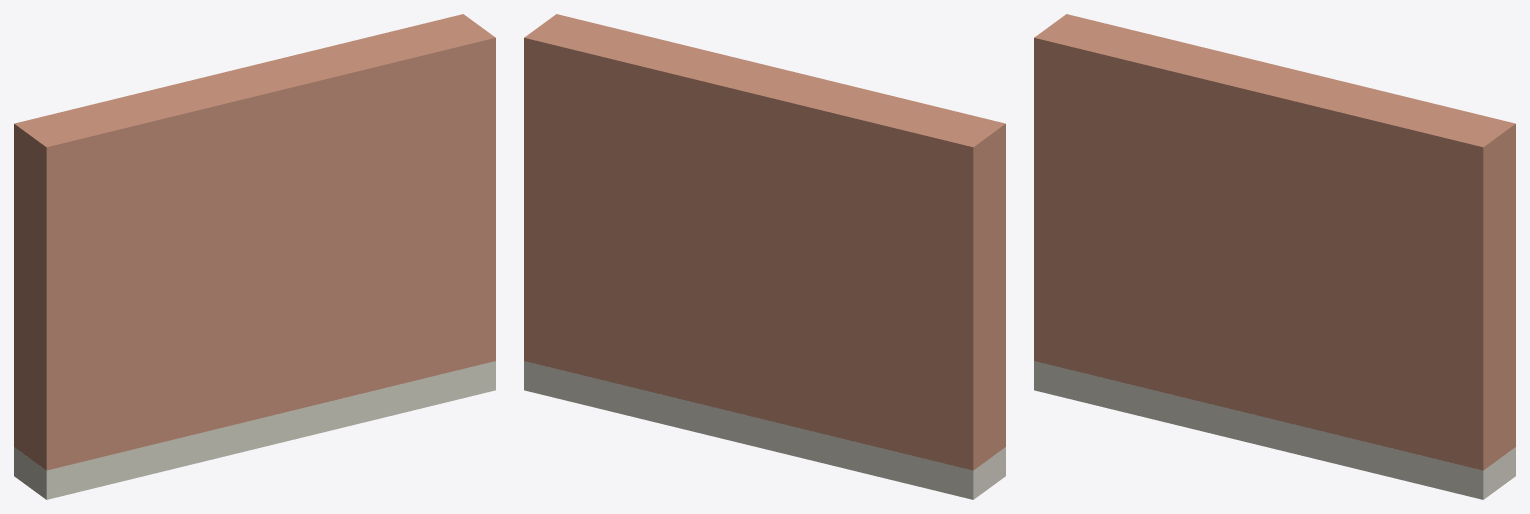
Rendered from voxel-city-districts-solid-brick-bay-dbc1e846__24796.glb.
3 renders of one model, left to right at view 1: azimuth 30°, elevation 25°; view 2: azimuth 150°, elevation 25°; view 3: azimuth 330°, elevation 25°, orthographic.
Parts seen in each view (by area): view 1: solid-brick-bay-brick, solid-brick-bay-concrete; view 2: solid-brick-bay-brick, solid-brick-bay-concrete; view 3: solid-brick-bay-brick, solid-brick-bay-concrete.
Boxes of the visible parts, x1=… form: solid-brick-bay-brick: x1=14, y1=14, x2=495, y2=470; solid-brick-bay-concrete: x1=14, y1=361, x2=495, y2=499; solid-brick-bay-brick: x1=524, y1=14, x2=1005, y2=470; solid-brick-bay-concrete: x1=524, y1=361, x2=1005, y2=499; solid-brick-bay-brick: x1=1034, y1=14, x2=1515, y2=470; solid-brick-bay-concrete: x1=1034, y1=361, x2=1515, y2=499.
Size of the model in its own units: 4 by 3 by 0.5.
